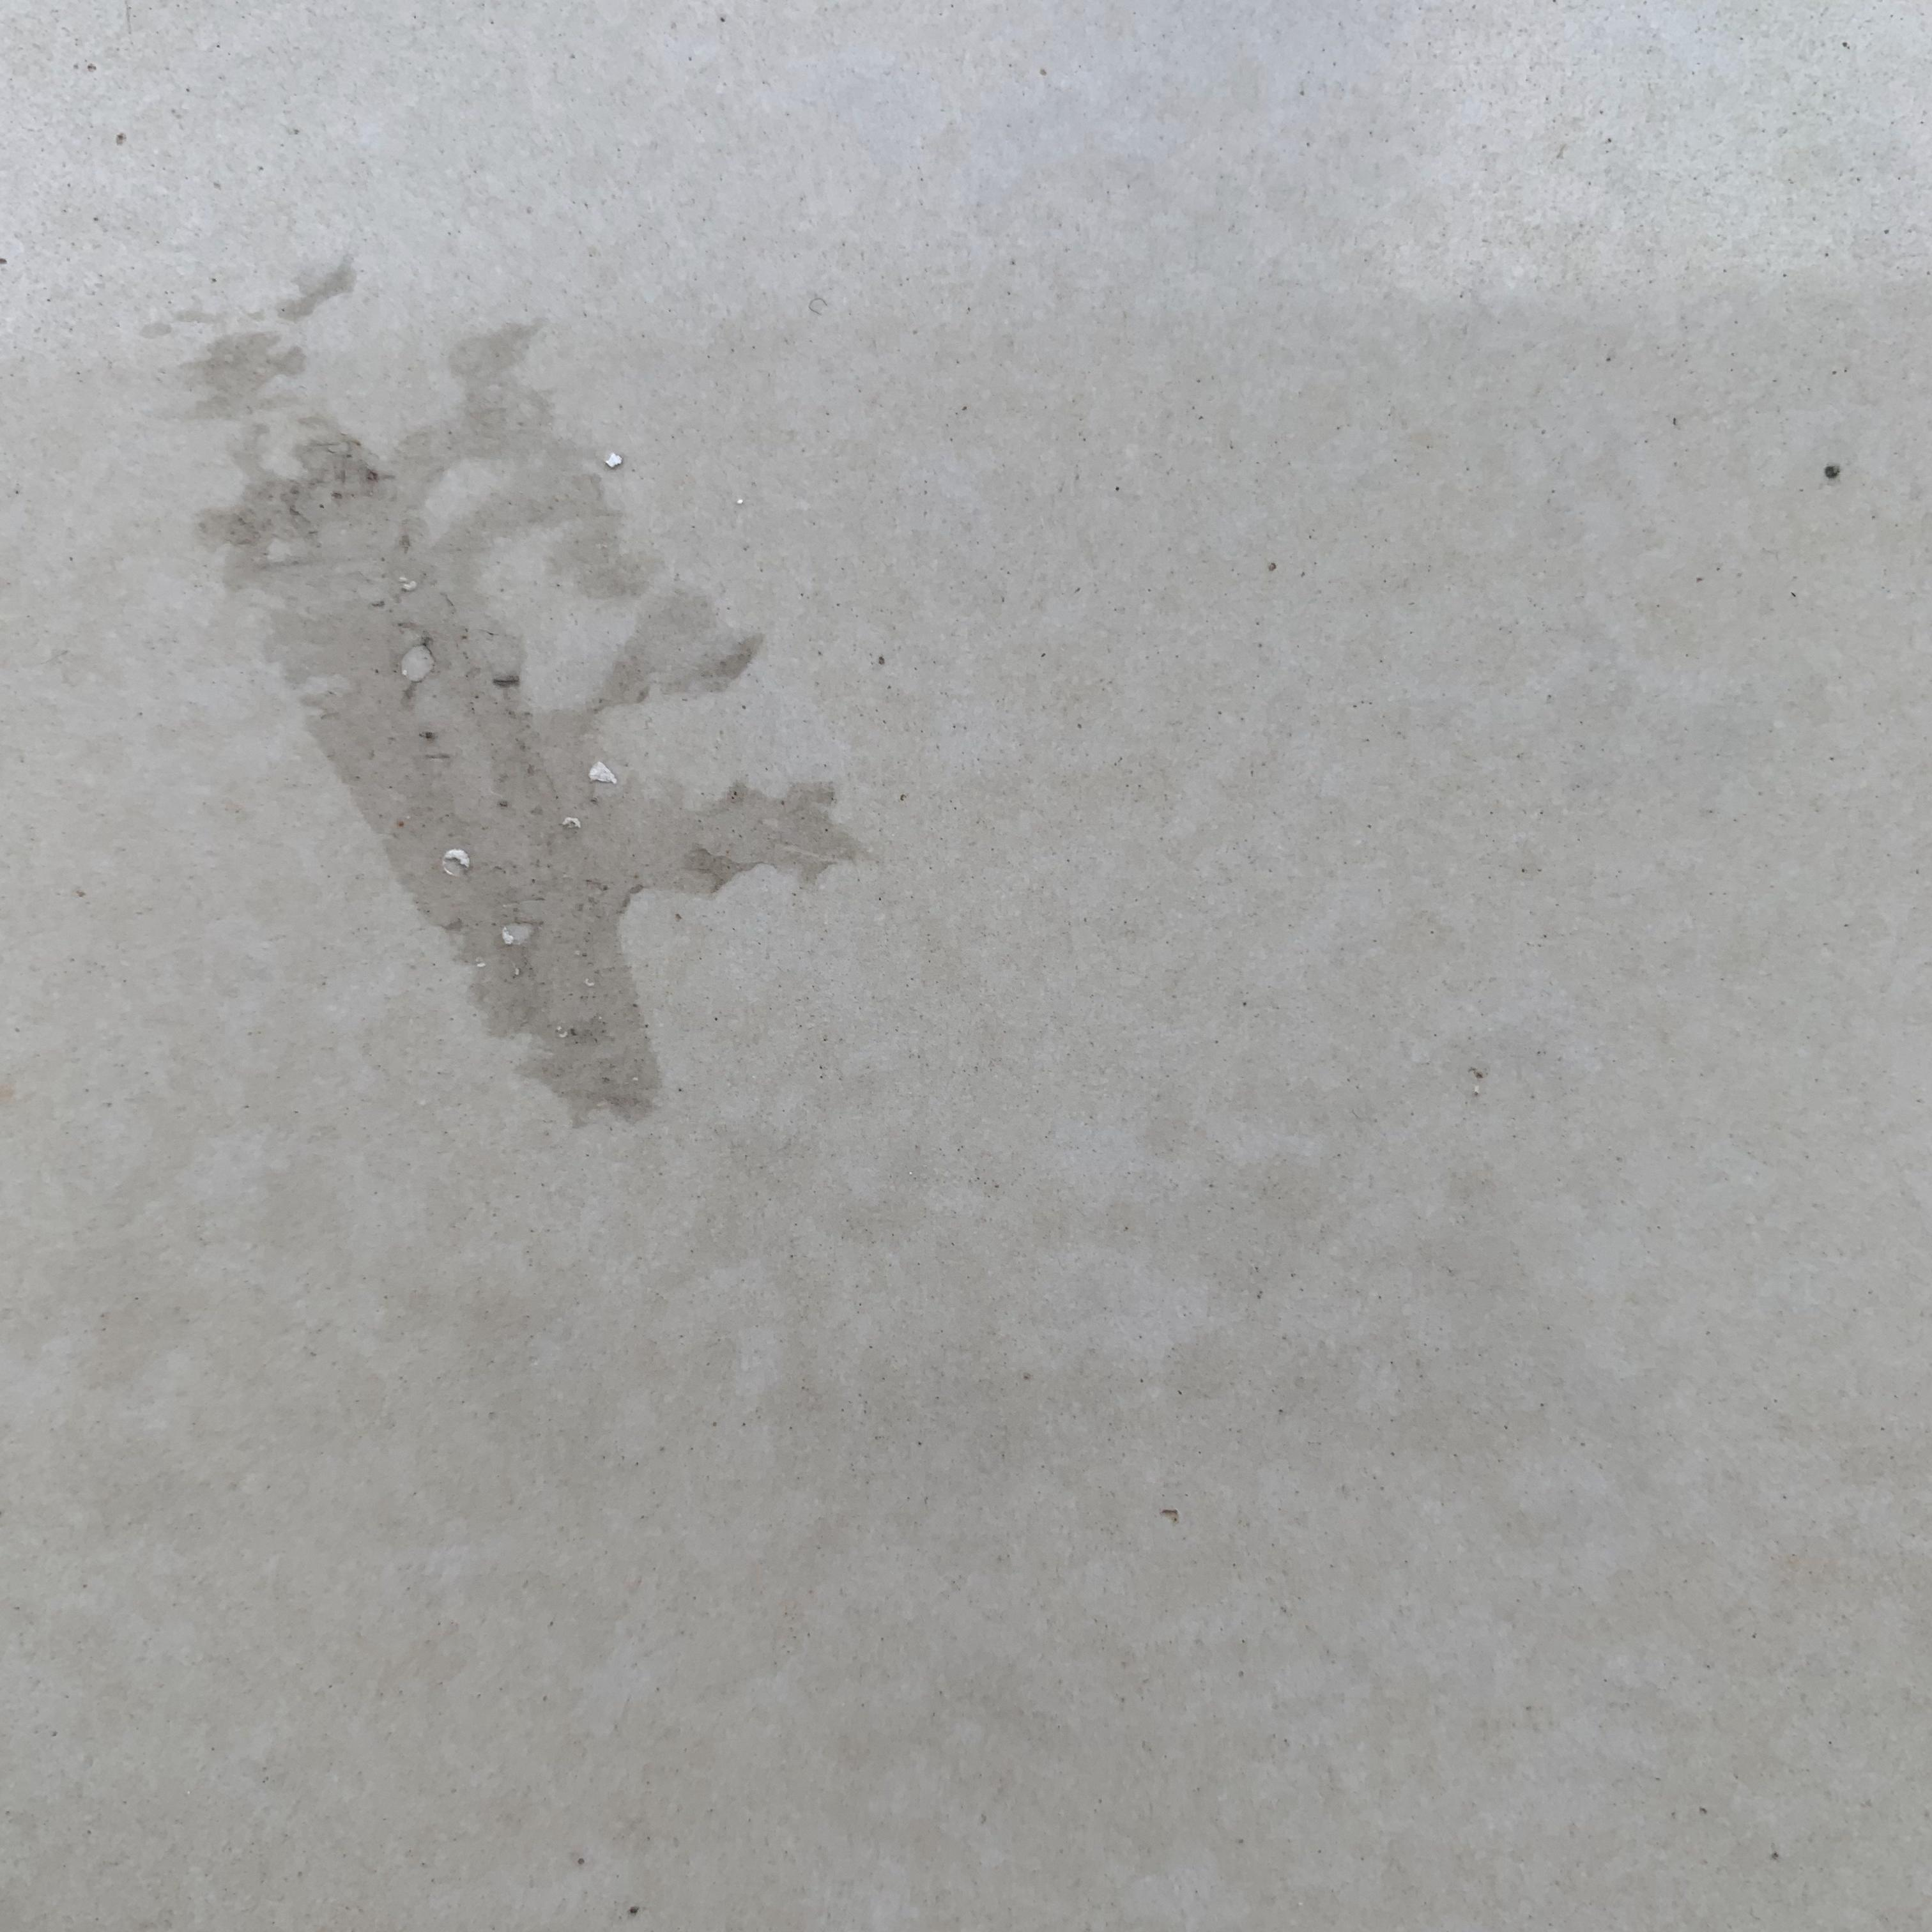grey spot: (140, 260, 862, 1123)
